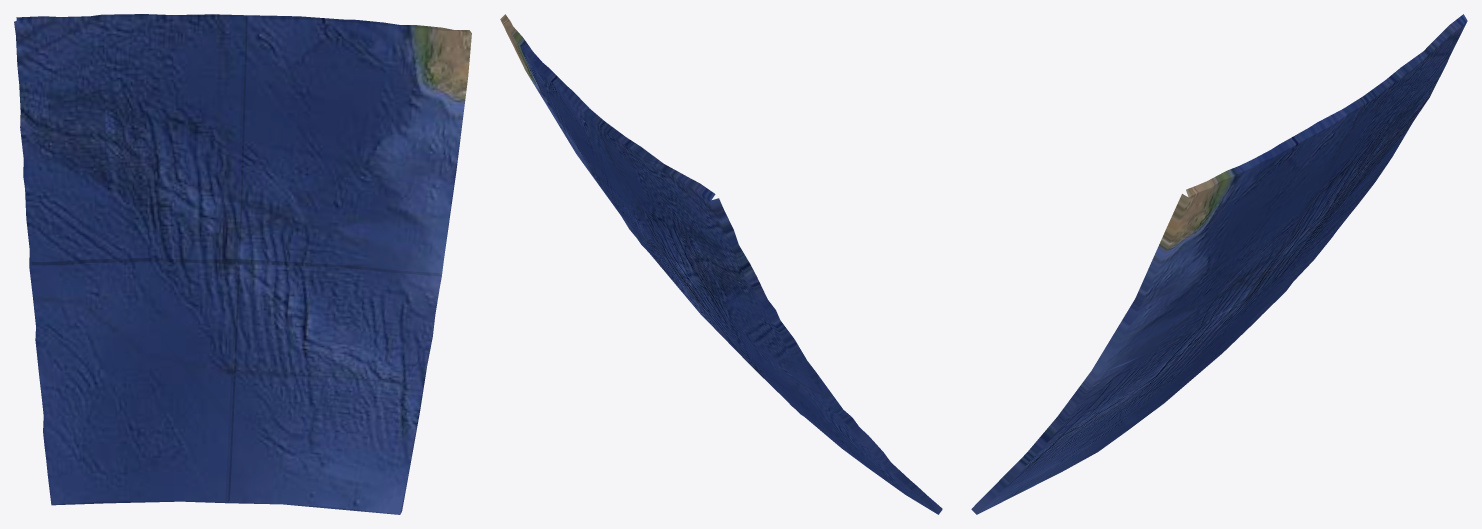
3 views of the same model, side by side, from view 1: azimuth 30°, elevation 25°; view 2: azimuth 150°, elevation 25°; view 3: azimuth 270°, elevation 25° (orthographic). The views are drawn at different scales.
Size of the model in its own units: 2468048 by 2102800 by 2283598.
1 material, 1 textured.
